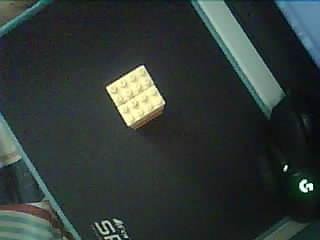lego: (105, 65, 166, 128)
